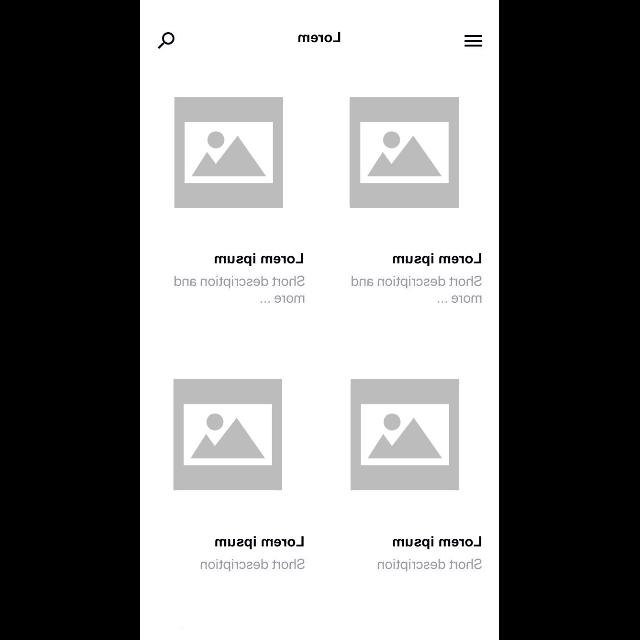icon: (158, 32, 175, 49), (465, 35, 483, 47)
image: (174, 98, 284, 208), (350, 380, 460, 490), (349, 98, 458, 208), (174, 380, 282, 490)
text: (174, 275, 306, 303), (352, 276, 482, 304), (200, 558, 306, 572), (378, 558, 482, 572), (392, 252, 482, 268), (214, 252, 304, 268), (392, 536, 482, 550), (216, 536, 304, 550), (298, 32, 340, 44)
